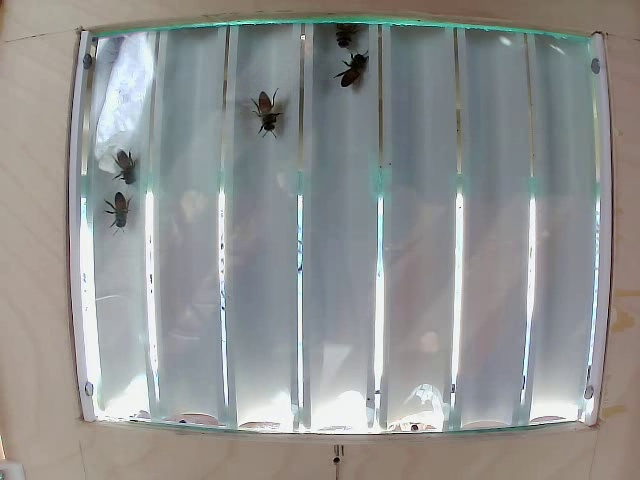bee: (97, 186, 145, 233), (331, 59, 377, 104), (254, 90, 288, 141), (108, 151, 139, 188)
